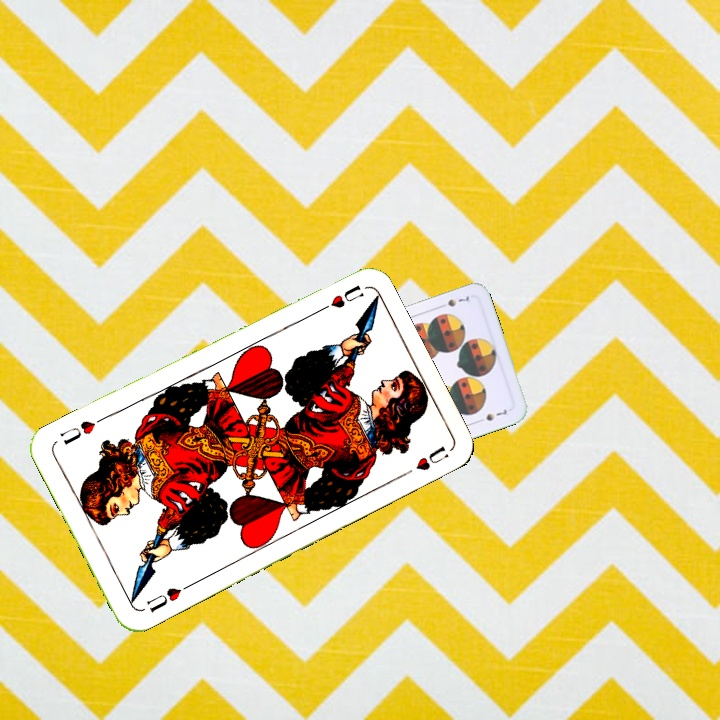HU: (311, 281, 366, 317), (142, 580, 193, 615)
S7: (434, 291, 474, 311)
